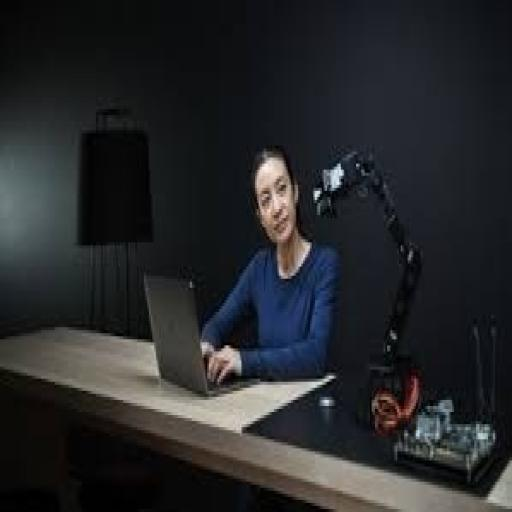sitting: (198, 139, 342, 385)
